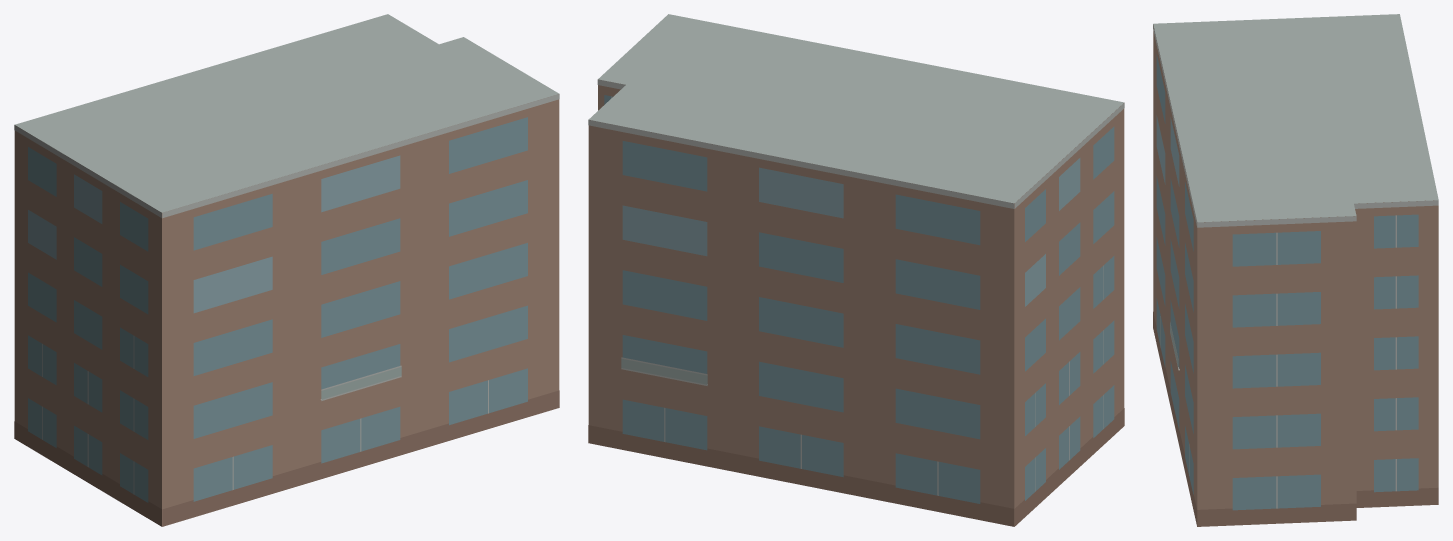
The model's file is survey-upis-32633382.glb.
3 views of the same model, side by side, from view 1: azimuth 30°, elevation 25°; view 2: azimuth 150°, elevation 25°; view 3: azimuth 270°, elevation 25° (orthographic). The views are drawn at different scales.
Visible parts, largest first — view 1: survey-upis-32633382.tmp; view 2: survey-upis-32633382.tmp; view 3: survey-upis-32633382.tmp.
Boxes of the visible parts, left/top/right/bottom form: survey-upis-32633382.tmp: left=14, top=14, right=559, bottom=526; survey-upis-32633382.tmp: left=588, top=14, right=1124, bottom=526; survey-upis-32633382.tmp: left=1153, top=14, right=1438, bottom=526.
Bounding box in the file's own units: 20.41 × 13.9 × 11.83.
